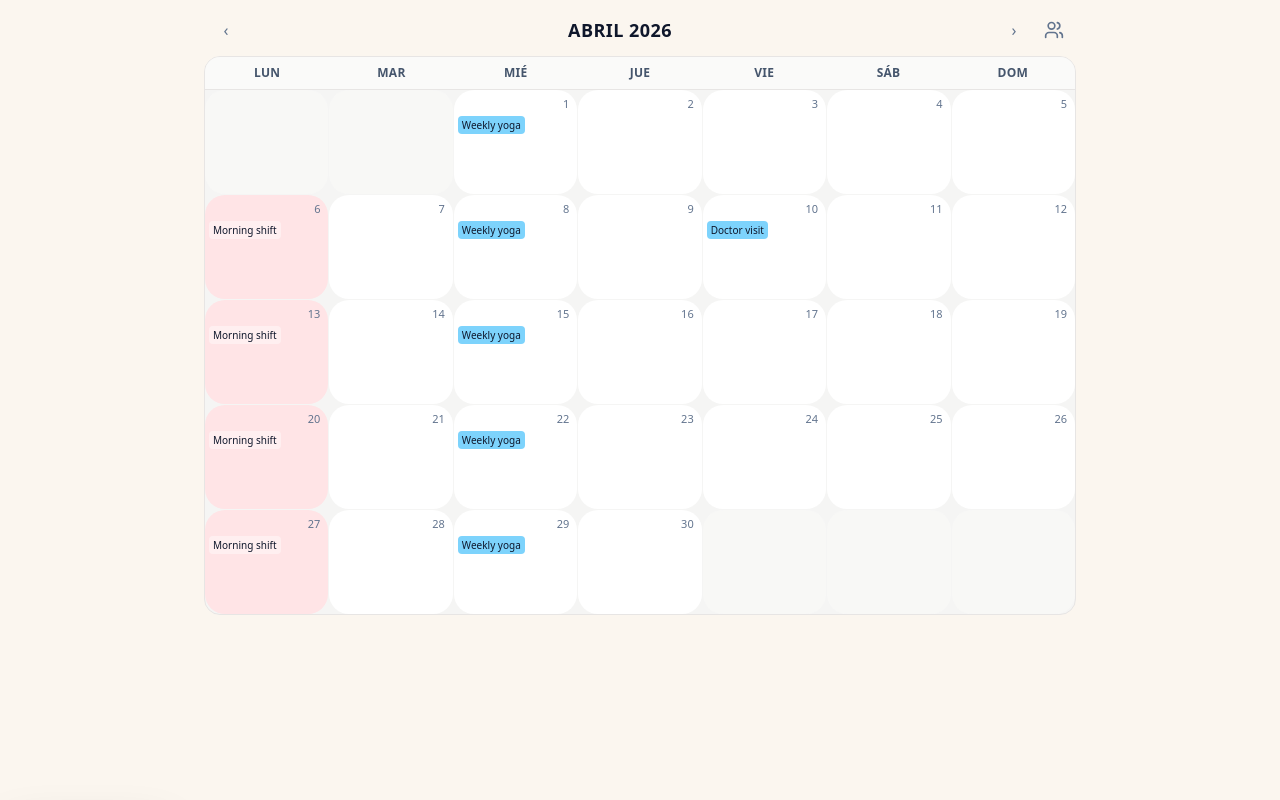
Test: CalendarGrid › opens the day detail panel when a day cell is clicked
The width and height of the screenshot is (1280, 800).
Click on day 10 (which has the Doctor visit event)
Click the button "10 Doctor visit" at coordinates (764, 247), box [703,195,826,299]
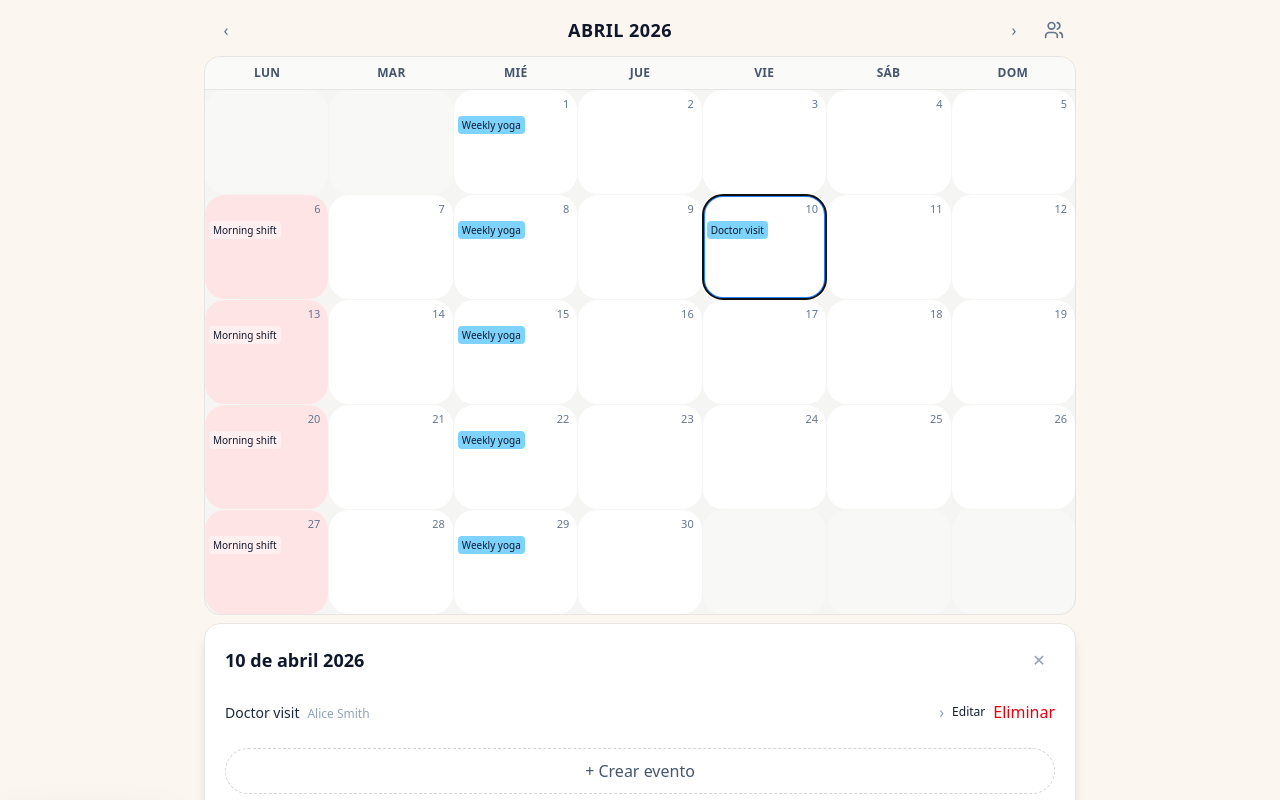
Result: the heading "10 de abril 2026" is shown at [225,646,364,674]
Result: the button "+ Crear evento" is shown at [225,748,1055,794]
